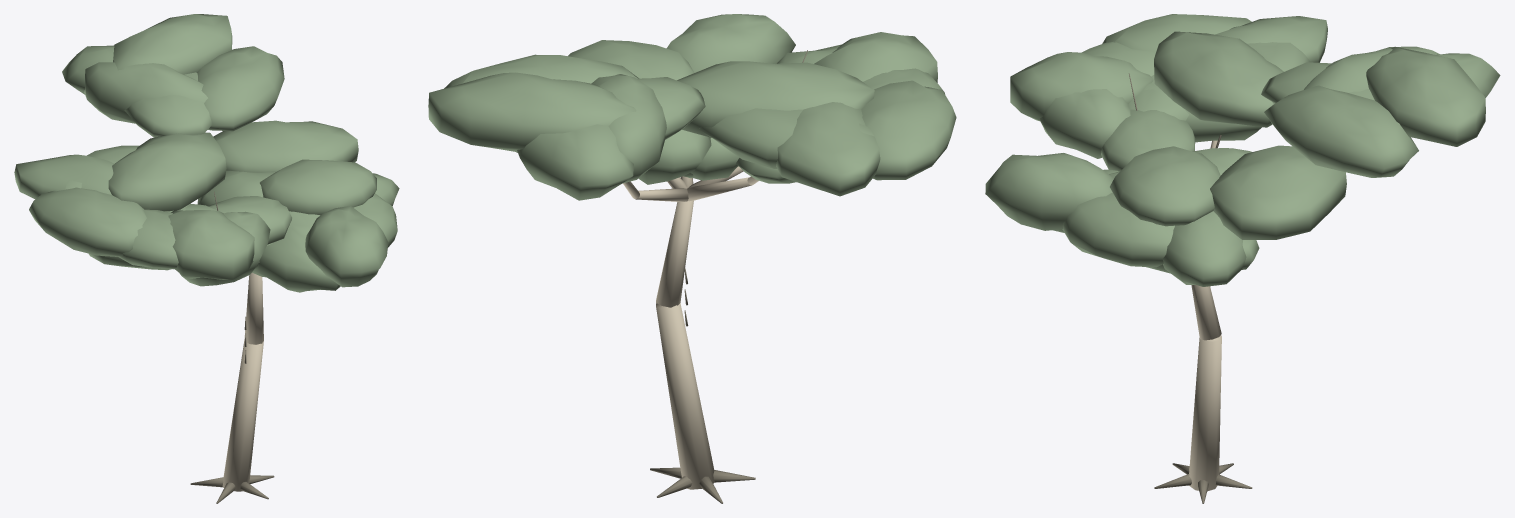
File: beta_tree_gum.glb
The picture shows the model from 3 angles, left to right: view 1: azimuth 30°, elevation 25°; view 2: azimuth 150°, elevation 25°; view 3: azimuth 270°, elevation 25°; orthographic projection. The views are drawn at different scales.
Parts seen in each view (by area): view 1: Canopy soft sage foliage.006, Beta pale peeling bark.006, Beta dark bark ridges.007; view 2: Canopy soft sage foliage.006, Beta pale peeling bark.006, Beta dark bark ridges.007; view 3: Canopy soft sage foliage.006, Beta pale peeling bark.006, Beta dark bark ridges.007.
Part boxes in pixels (x1,y1,x2,y2): Canopy soft sage foliage.006: (14, 14, 399, 292); Beta pale peeling bark.006: (222, 273, 263, 491); Beta dark bark ridges.007: (190, 192, 274, 503); Canopy soft sage foliage.006: (428, 14, 956, 200); Beta pale peeling bark.006: (623, 166, 758, 489); Beta dark bark ridges.007: (650, 50, 807, 503); Canopy soft sage foliage.006: (985, 14, 1500, 286); Beta pale peeling bark.006: (1189, 140, 1221, 491); Beta dark bark ridges.007: (1129, 73, 1252, 503).
Size of the model in its own units: 7.81 by 8.05 by 8.55.
